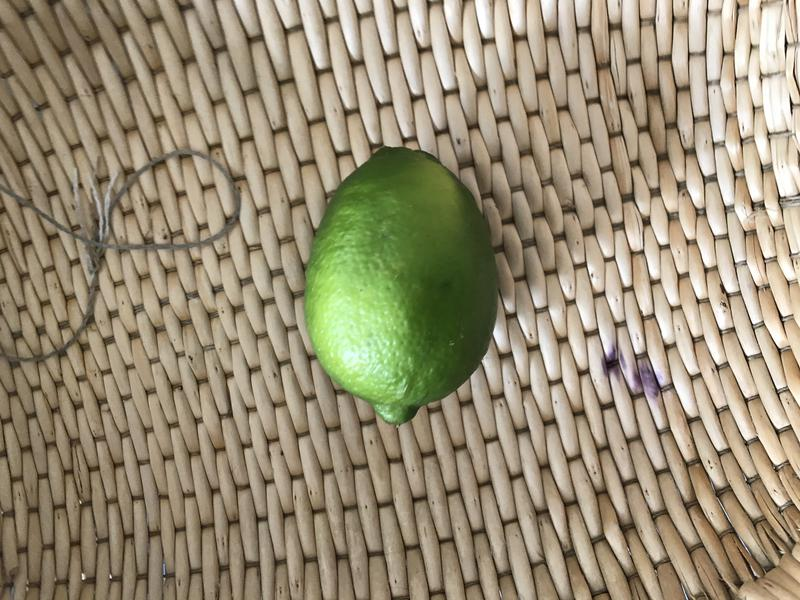lime: (293, 140, 509, 433)
